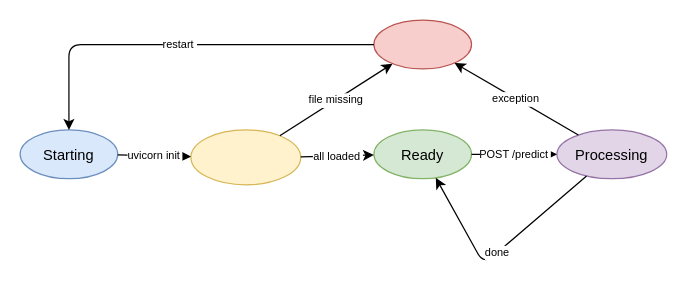
Image size: 687x281. Some labels were removed from this diagram. Each missing label, with the box of its shape:
Error: (373, 19, 472, 69)
Loading Models: (190, 129, 301, 185)
